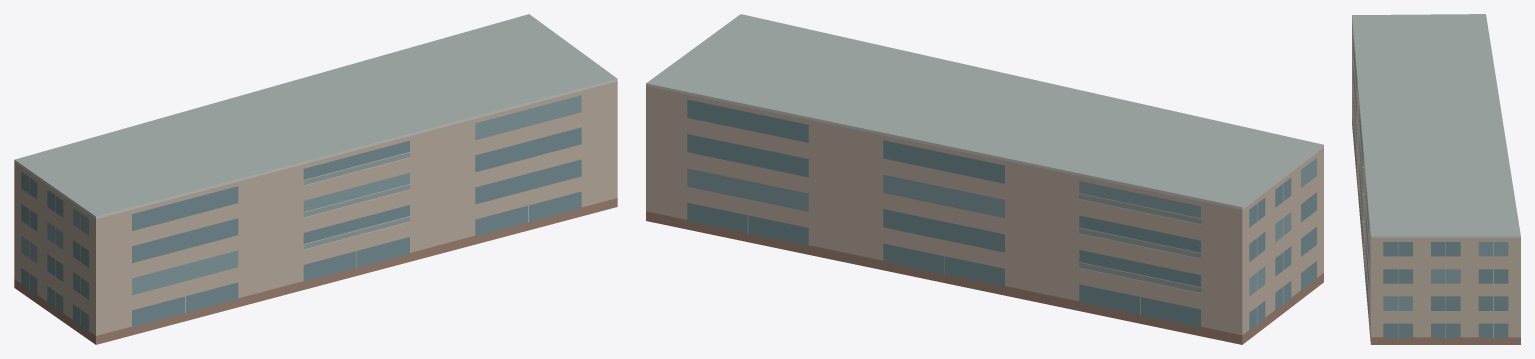
The model's file is residential-37d695d4-5d14-4811-9785-c3847c5292f5.glb.
3 renders of one model, left to right at view 1: azimuth 30°, elevation 25°; view 2: azimuth 150°, elevation 25°; view 3: azimuth 270°, elevation 25°, orthographic. The views are drawn at different scales.
Parts seen in each view (by area): view 1: residential-37d695d4-5d14-4811-9785-c3847c5292f5.tmp; view 2: residential-37d695d4-5d14-4811-9785-c3847c5292f5.tmp; view 3: residential-37d695d4-5d14-4811-9785-c3847c5292f5.tmp.
Part boxes in pixels (box(x1,y1,x2,y2)): residential-37d695d4-5d14-4811-9785-c3847c5292f5.tmp: box(14, 14, 617, 344); residential-37d695d4-5d14-4811-9785-c3847c5292f5.tmp: box(646, 14, 1323, 344); residential-37d695d4-5d14-4811-9785-c3847c5292f5.tmp: box(1352, 14, 1520, 344).
Size of the model in its own units: 53.28 by 12.2 by 17.13.
